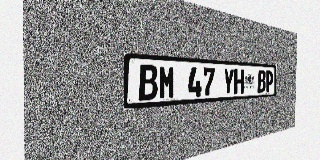4: (188, 67, 202, 97)
7: (202, 67, 215, 96)
B: (138, 64, 158, 101), (258, 70, 266, 93)
H: (234, 69, 244, 94)
M: (158, 65, 176, 99)
P: (266, 70, 273, 92)
Y: (223, 68, 234, 95)
